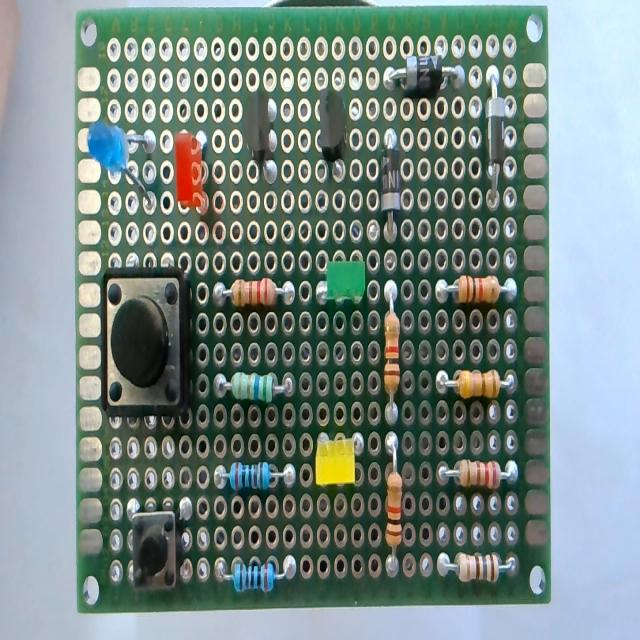diode: (476, 52, 512, 214), (391, 49, 461, 105), (380, 118, 406, 257)
led: (78, 116, 158, 220), (170, 128, 218, 231), (313, 247, 371, 315), (314, 421, 370, 489)
resistor: (207, 530, 298, 596), (433, 531, 520, 598), (223, 361, 305, 426), (438, 351, 520, 412), (218, 454, 294, 519), (373, 287, 407, 422), (216, 265, 288, 326), (438, 251, 518, 305), (442, 446, 520, 500)
switch: (99, 262, 189, 422), (128, 494, 190, 606)
transistor: (239, 70, 287, 190), (311, 66, 351, 189)
